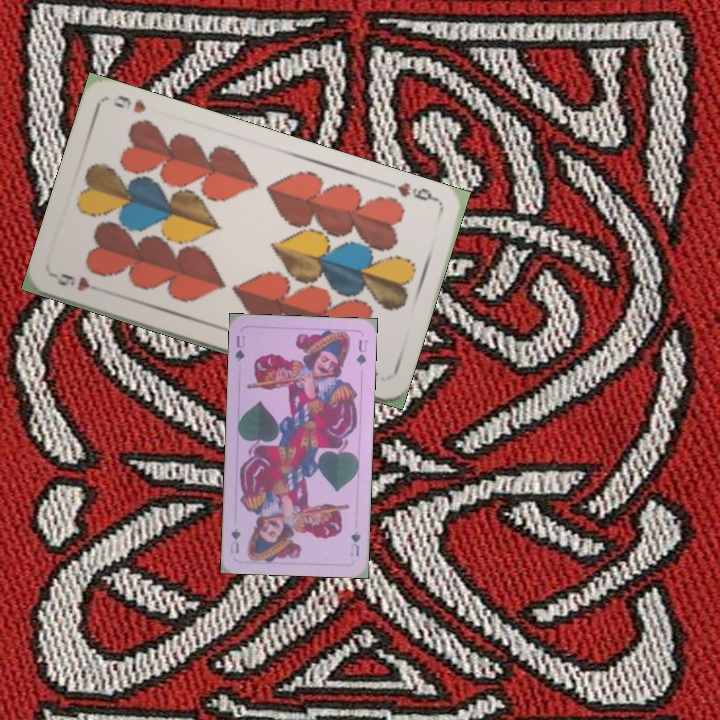GU: (346, 527, 363, 559), (231, 332, 247, 364)
H9: (50, 269, 108, 296), (383, 178, 441, 204)
